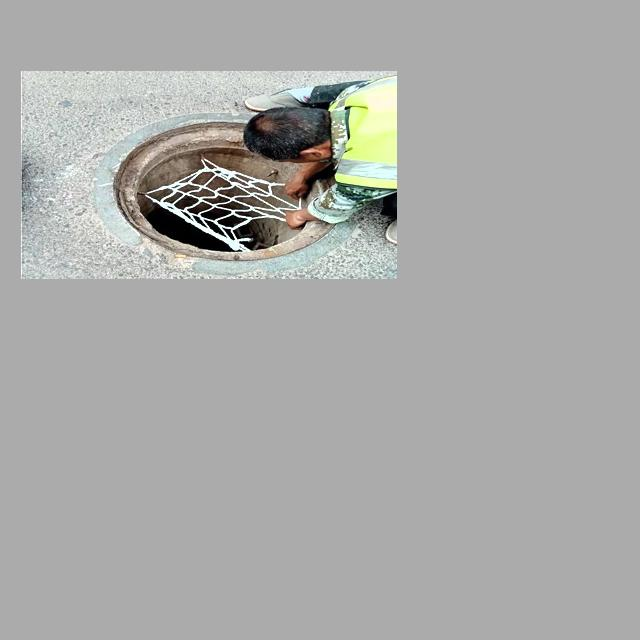lose: (104, 114, 351, 265)
